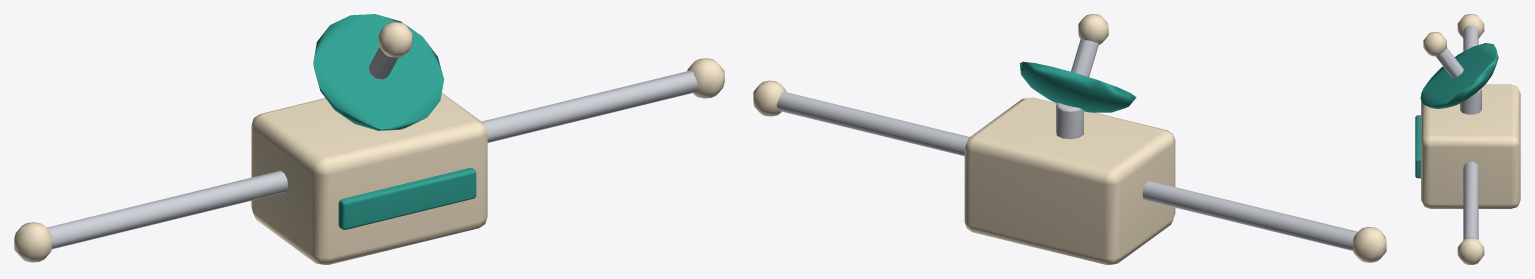
File: Part_RadarSounder.glb
3 renders of one model, left to right at view 1: azimuth 30°, elevation 25°; view 2: azimuth 150°, elevation 25°; view 3: azimuth 270°, elevation 25°, orthographic. The views are drawn at different scales.
Parts seen in each view (by area): view 1: Part_RadarSounder.Body, Part_RadarSounder.Antenna, Part_RadarSounder.Dish, Part_RadarSounder.Stripe; view 2: Part_RadarSounder.Body, Part_RadarSounder.Antenna, Part_RadarSounder.Dish; view 3: Part_RadarSounder.Body, Part_RadarSounder.Dish, Part_RadarSounder.Antenna, Part_RadarSounder.Stripe.
Boxes of the visible parts, box(x1,y1,x2,y2) form: Part_RadarSounder.Body: box(251, 93, 487, 264); Part_RadarSounder.Antenna: box(14, 58, 724, 262); Part_RadarSounder.Dish: box(313, 14, 443, 130); Part_RadarSounder.Stripe: box(338, 167, 476, 229); Part_RadarSounder.Body: box(964, 97, 1175, 264); Part_RadarSounder.Antenna: box(753, 80, 1386, 262); Part_RadarSounder.Dish: box(1019, 14, 1136, 139); Part_RadarSounder.Body: box(1421, 84, 1520, 208); Part_RadarSounder.Dish: box(1420, 32, 1498, 114); Part_RadarSounder.Antenna: box(1457, 14, 1484, 264); Part_RadarSounder.Stripe: box(1415, 115, 1420, 178).
Bounding box in the file's own units: 1.78 × 0.5338 × 0.339.
Materials: 1 (1 with a texture image).
